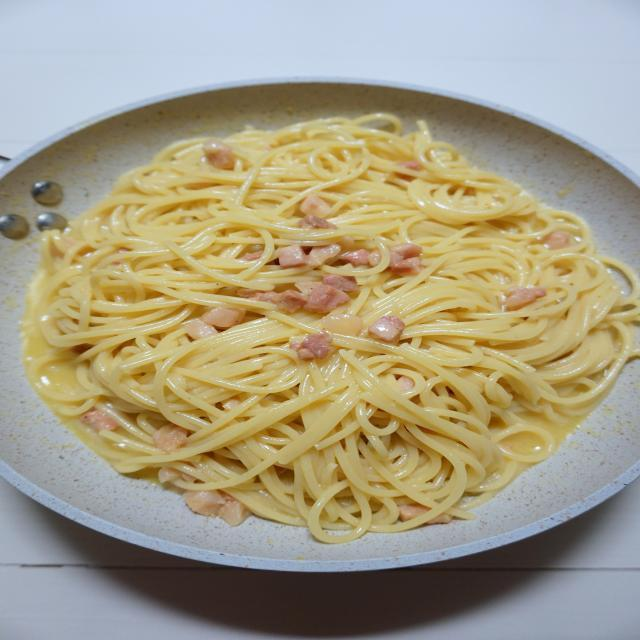Pasta with carbonara sauce: (9, 92, 599, 572)
